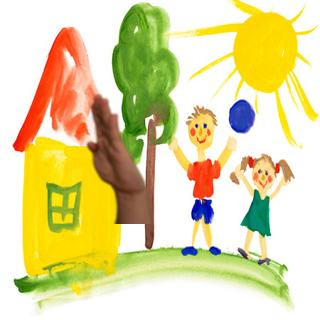RIGHT: (78, 90, 148, 194)
